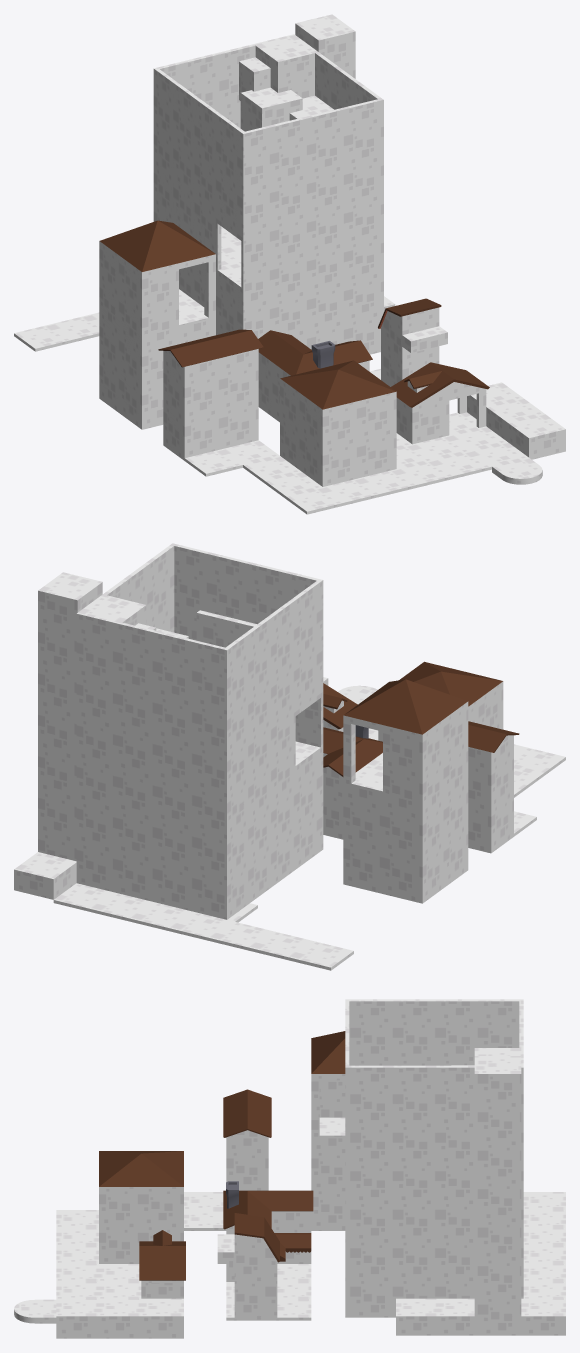
File: ChrisBlueLevel3.model.fbx
3 views of the same model, one above another, from view 1: azimuth 30°, elevation 25°; view 2: azimuth 150°, elevation 25°; view 3: azimuth 270°, elevation 25° (orthographic). The views are drawn at different scales.
Parts seen in each view (by area): view 1: block_half_201, block_185, block_half_203, block_215, block_columns_148, block_132, block_144, block_half_206, block_133, roof_point_149, roof_point_214, block_half_207 (+37 smaller); view 2: block_185, block_half_206, block_half_203, block_213, block_half_201, block_columns_148, block_146, block_145, block_132, block_half_204, roof_point_149, block_half_207 (+19 smaller); view 3: block_half_204, block_213, block_185, block_half_203, block_215, block_143, block_half_207, roof_point_214, block_133, roof_134, roof_barn_100, block_217 (+37 smaller).
Boxes of the visible parts, x1,y1,x2,y2 form: block_half_201: (241,98,383,288); block_185: (179,226,383,354); block_half_203: (153,67,221,269); block_215: (280,378,396,486); block_columns_148: (99,241,215,333); block_132: (163,351,221,457); block_144: (120,319,178,426); block_half_206: (157,35,291,128); block_133: (221,349,258,448); roof_point_149: (100,220,215,271); roof_point_214: (280,360,396,409); block_half_207: (217,114,244,240); block_185: (76,741,323,919); block_half_206: (80,613,224,814); block_half_203: (223,599,295,815); block_213: (38,572,102,861); block_half_201: (170,543,323,747); block_columns_148: (343,701,468,800); block_146: (383,785,445,900); block_145: (343,765,382,890); block_132: (468,735,513,850); block_half_204: (76,545,174,780); roof_point_149: (343,679,467,734); block_half_207: (292,581,320,715); block_half_204: (349,1065,523,1221); block_213: (474,1056,521,1316); block_185: (345,1221,523,1317); block_half_203: (396,999,523,1065); block_215: (99,1187,183,1263); block_143: (311,1117,345,1227); block_half_207: (349,999,395,1065); roof_point_214: (99,1151,183,1186); block_133: (226,1135,268,1190); roof_134: (223,1089,271,1137); roof_barn_100: (234,1213,279,1262); block_217: (234,1279,277,1317).
Size of the model in its own units: 81 by 69.5 by 130.
Materials: 5 (2 with a texture image).
